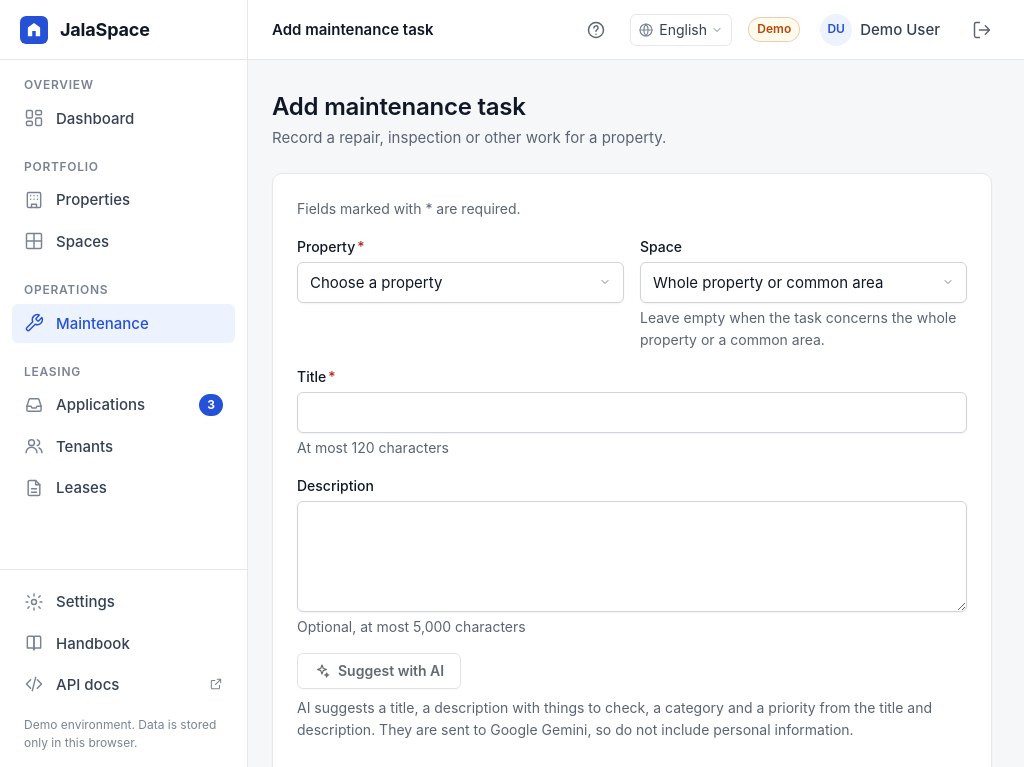
Test: AI maintenance suggestions › leaves the form unchanged when the suggestion is dismissed
Type "Leak" into the text box labelled "Description" at point(632, 556), box top-left (297, 501), bottom-right (967, 612)
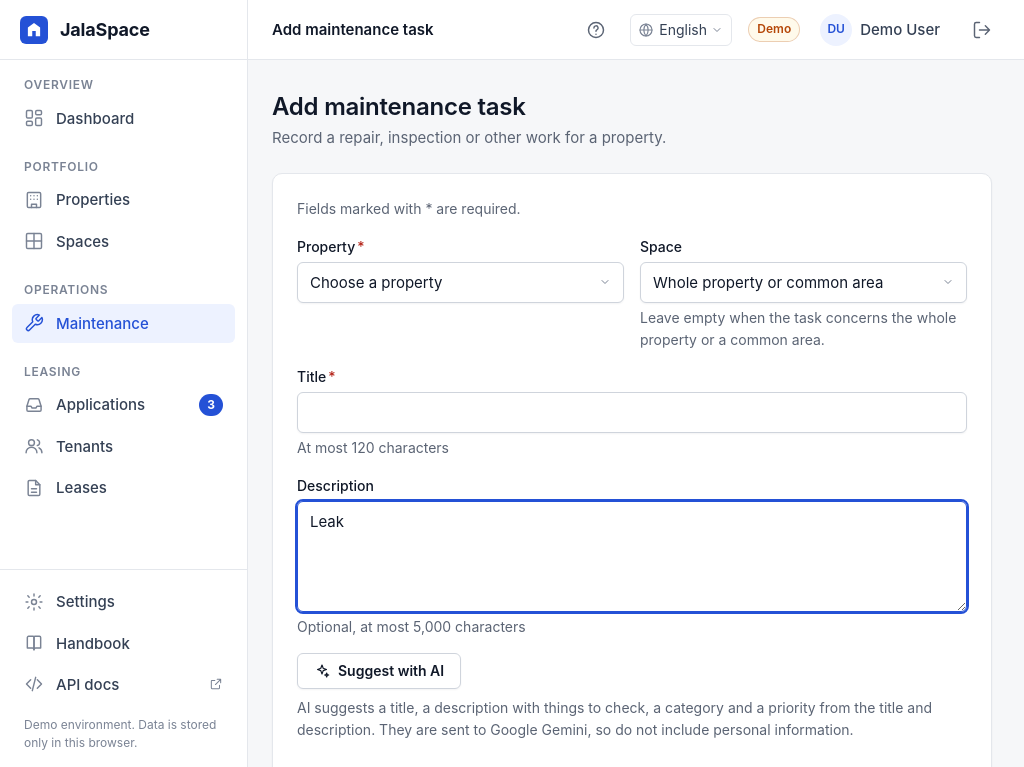
Type "My own title" into the field labelled "Title*" at point(632, 413), box top-left (297, 392), bottom-right (967, 433)
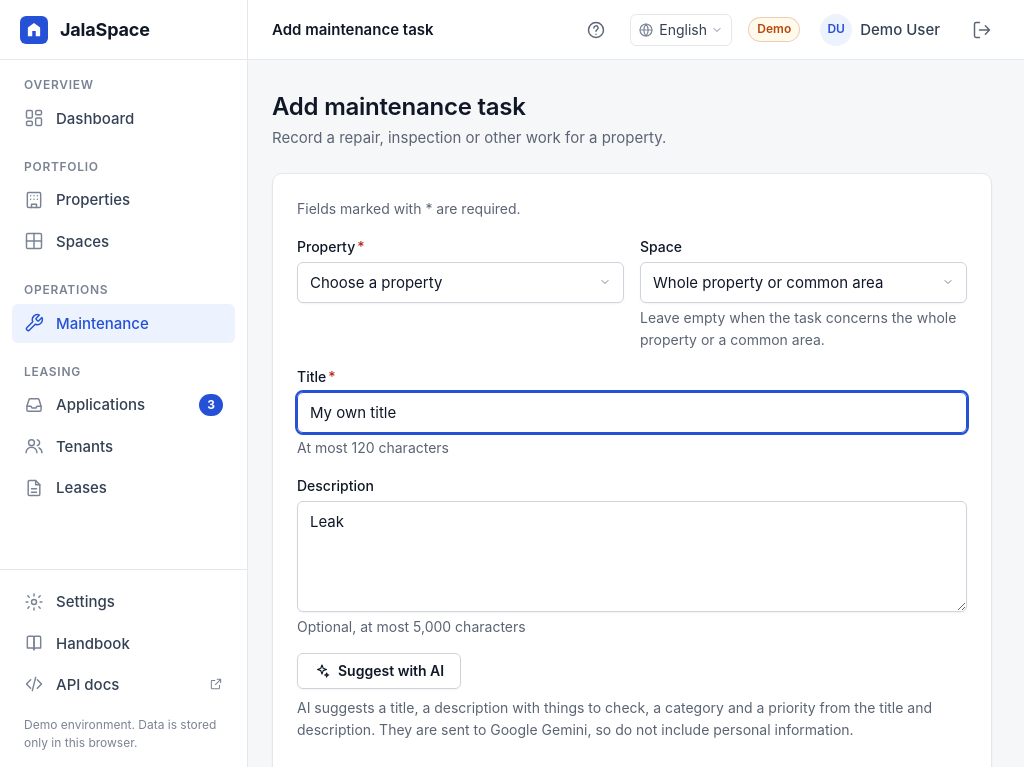
Click the button "Suggest with AI" at point(379, 671), box top-left (297, 653), bottom-right (461, 689)
(page scrolled)
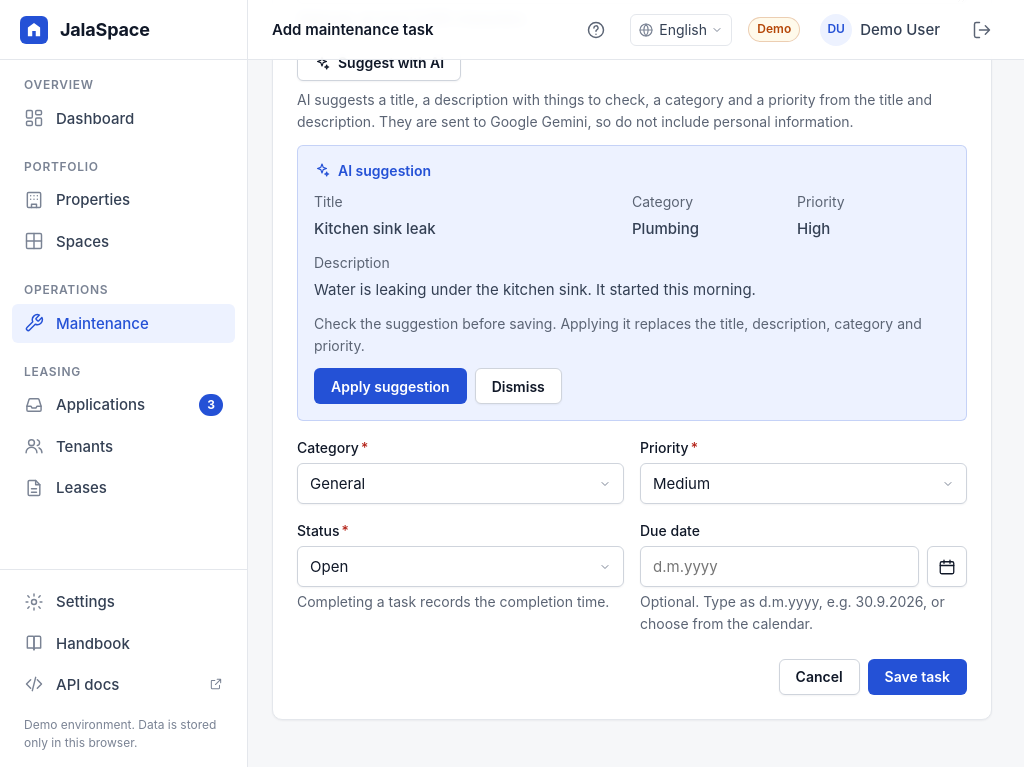
Click the button "Dismiss" at point(518, 386), box top-left (475, 368), bottom-right (562, 404)
(page scrolled)
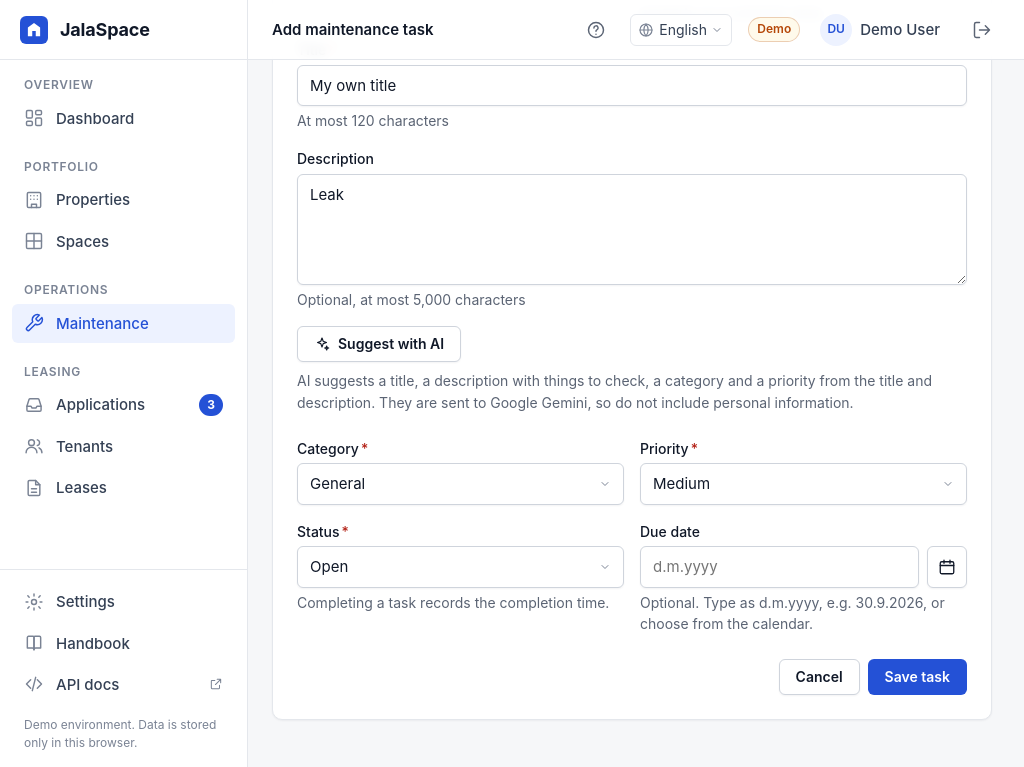
Expected: the dropdown labelled "Priority*" shows "Medium", top-left (640, 463), bottom-right (967, 505)
Now the heading "AI suggestion" is gone
